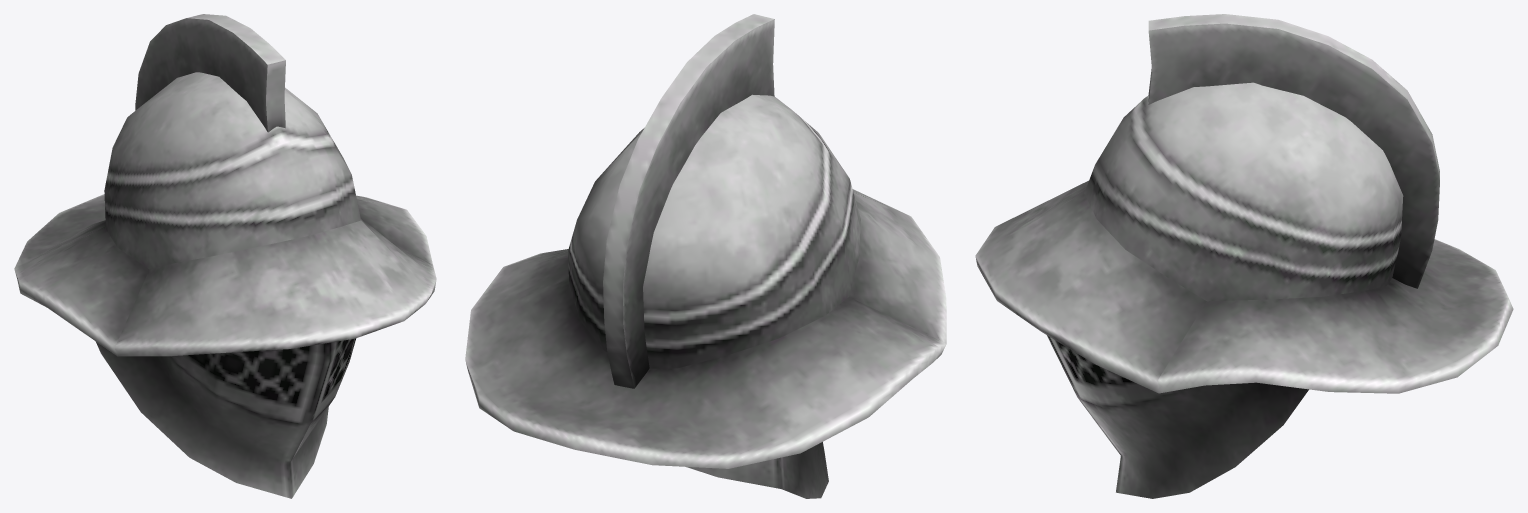
Rendered from helmet-heavyinfantry.glb.
3 renders of one model, left to right at view 1: azimuth 30°, elevation 25°; view 2: azimuth 150°, elevation 25°; view 3: azimuth 270°, elevation 25°, orthographic. The views are drawn at different scales.
Bounding box in the file's own units: 0.412 × 0.4719 × 0.4858.
1 material, 1 textured.
